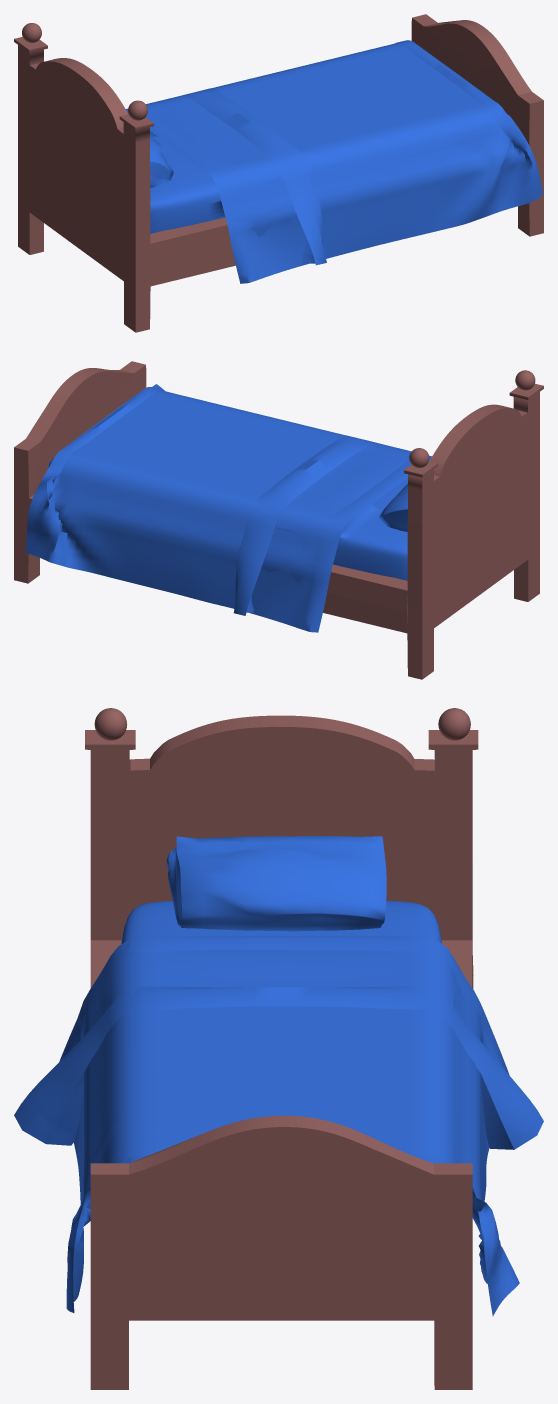
The model's file is bed.fbx.
3 renders of one model, top to bottom at view 1: azimuth 30°, elevation 25°; view 2: azimuth 150°, elevation 25°; view 3: azimuth 270°, elevation 25°, orthographic. The views are drawn at different scales.
Parts seen in each view (by area): view 1: Одеяло, Кровать, Матрас, Подкушка; view 2: Одеяло, Кровать, Матрас, Подкушка; view 3: Кровать, Одеяло, Подкушка, Матрас, Сфера-1, Сфера-2.
Part boxes in pixels (x1,y1,x2,y2): Одеяло: [126, 40, 542, 283]; Кровать: [14, 14, 543, 332]; Матрас: [150, 131, 225, 233]; Подкушка: [150, 136, 173, 187]; Одеяло: [25, 384, 431, 632]; Кровать: [14, 361, 543, 679]; Матрас: [48, 458, 407, 580]; Подкушка: [379, 484, 407, 531]; Кровать: [85, 715, 478, 1389]; Одеяло: [14, 936, 543, 1316]; Подкушка: [166, 836, 386, 931]; Матрас: [121, 900, 441, 943]; Сфера-1: [438, 708, 470, 740]; Сфера-2: [94, 708, 127, 740].
Bounding box in the file's own units: 402 × 210 × 278.
